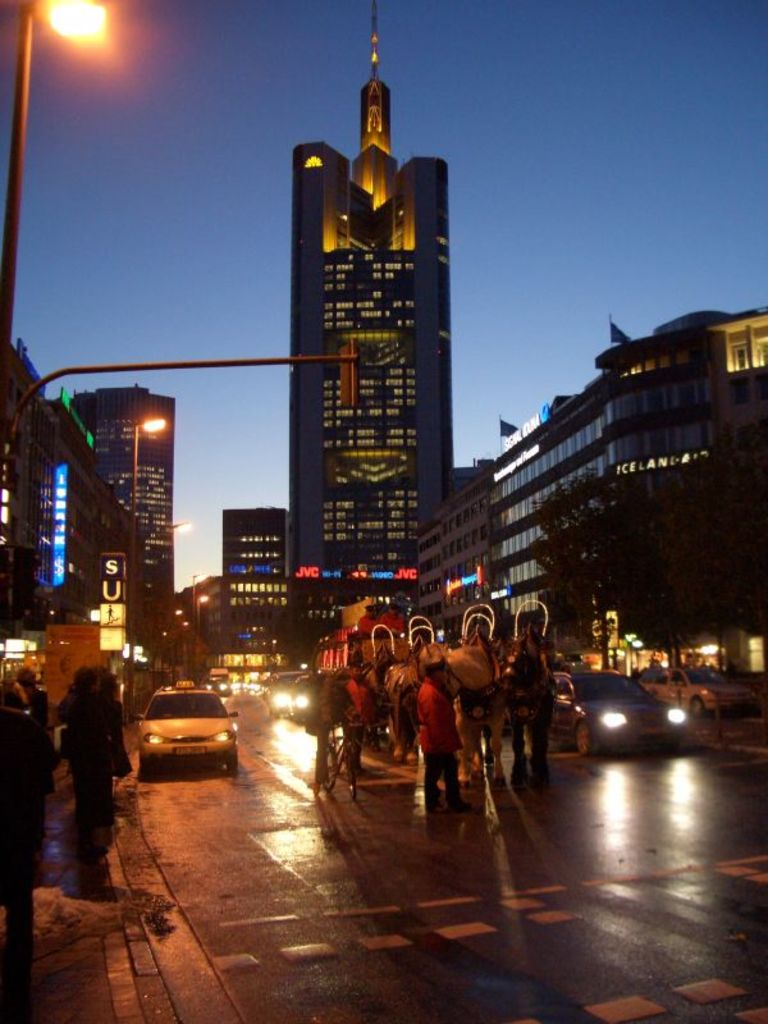cars: (548, 669, 686, 752), (130, 679, 239, 774), (638, 663, 755, 715), (268, 670, 304, 715), (288, 671, 304, 723)
